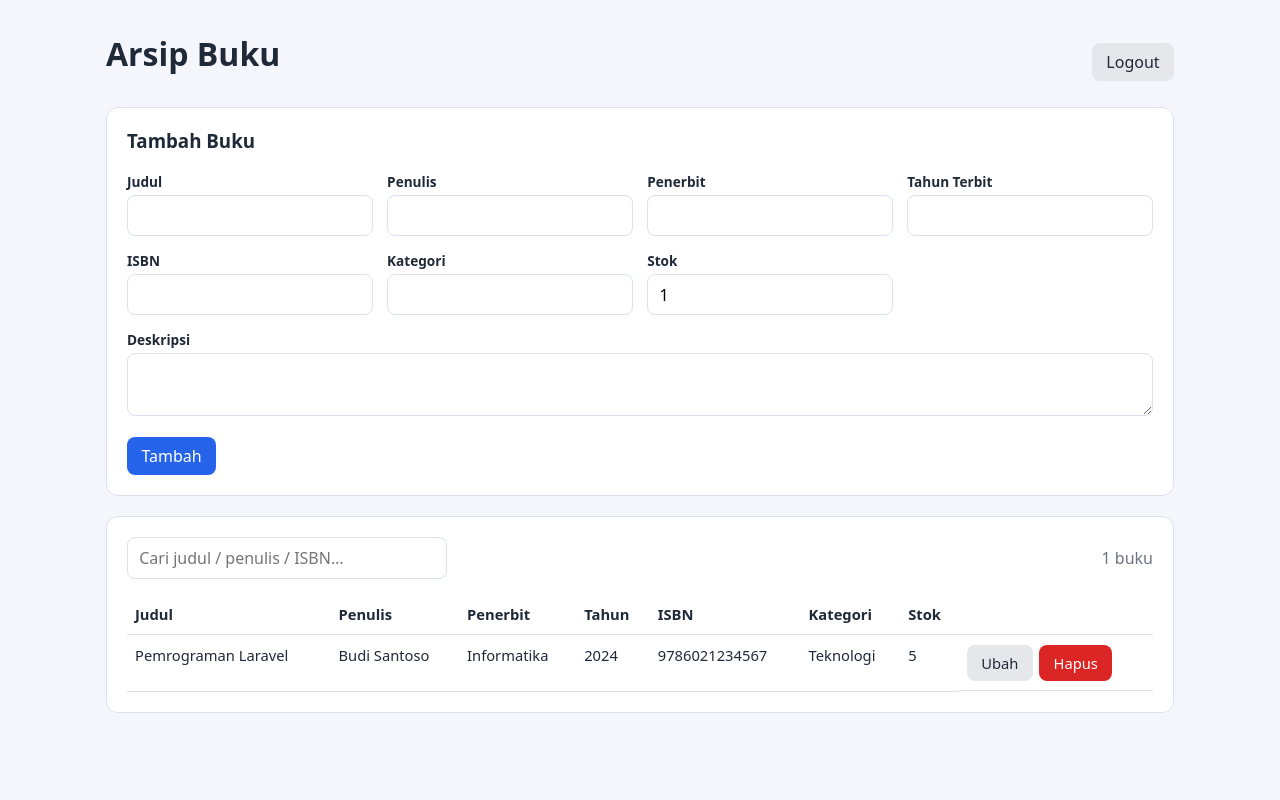
it: BukuView.vue (CRUD arsip buku) › CREATE: submit form memanggil POST /buku
Type "Buku Baru" into the field with id "judul". click: (250, 216)
box: x1=127 y1=195 x2=373 y2=236
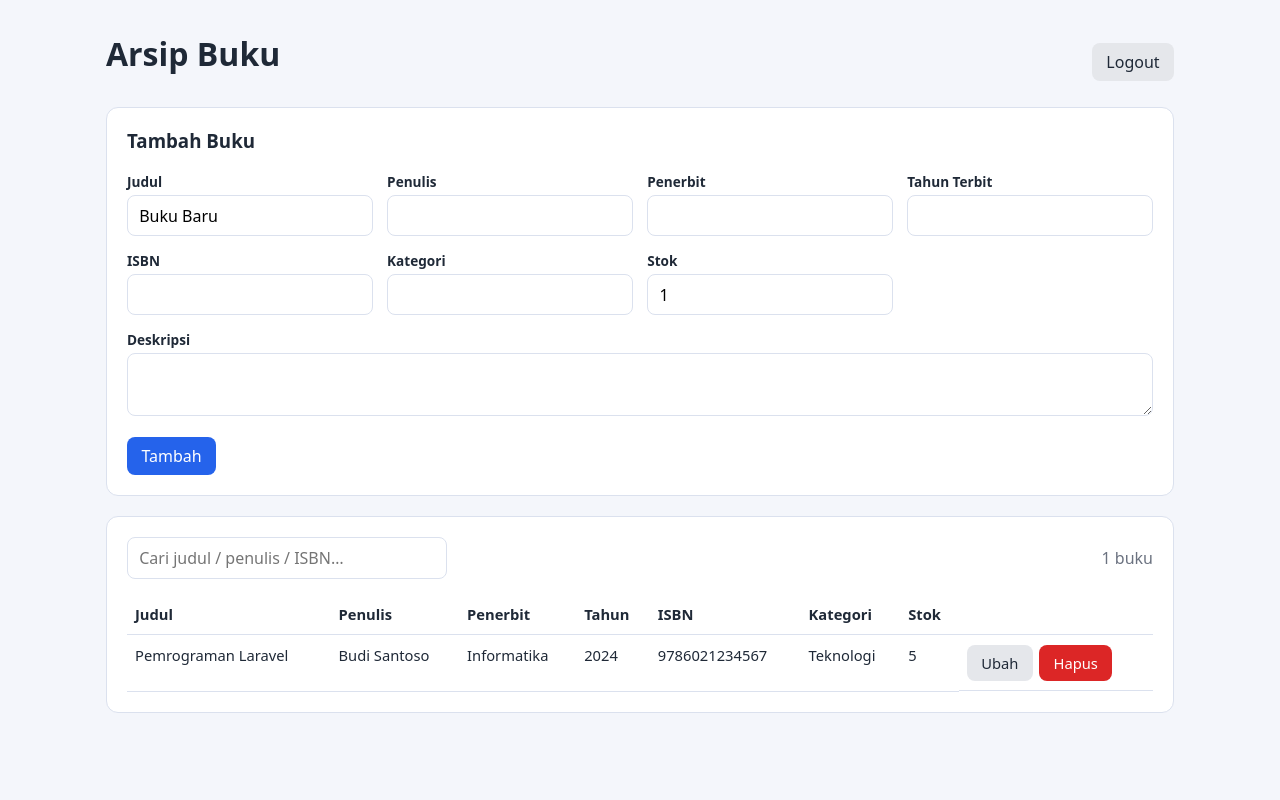
Type "Penulis A" into the field labelled "Penulis". click: (510, 216)
box: x1=387 y1=195 x2=633 y2=236
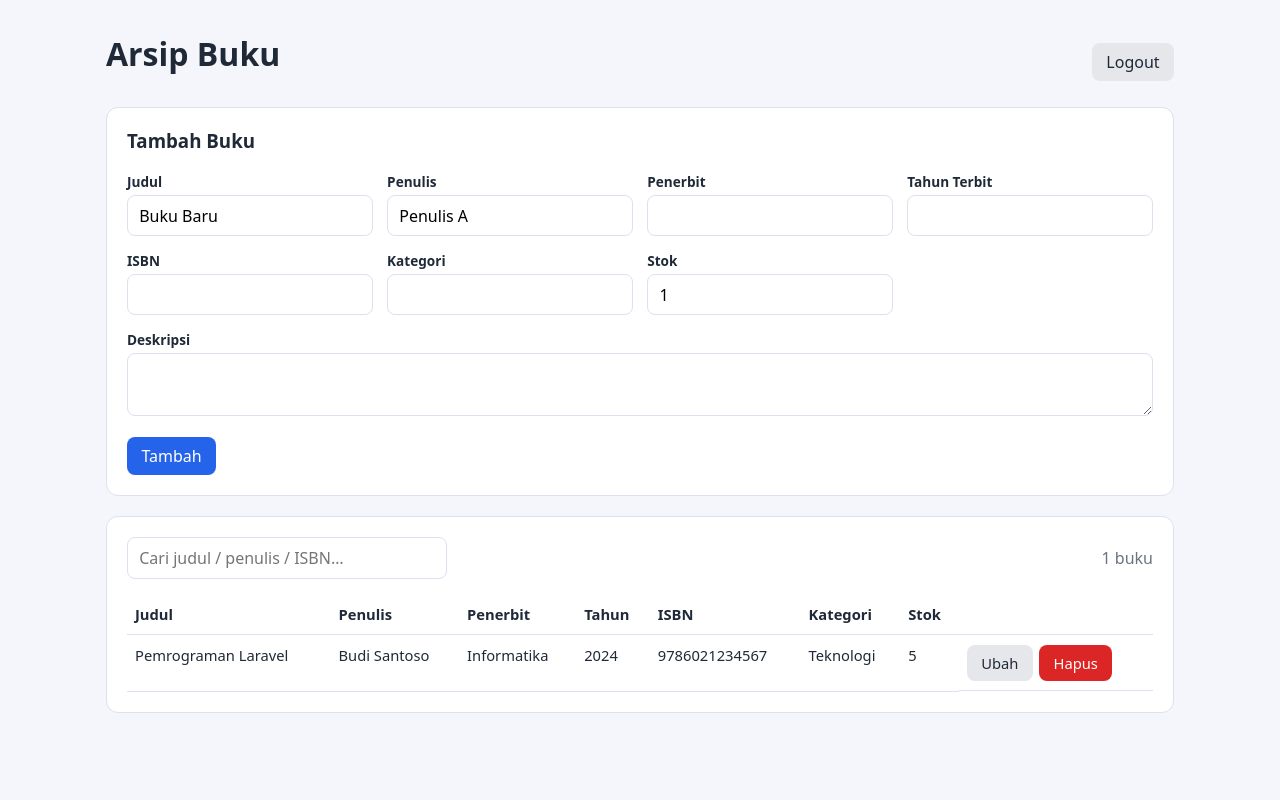
Submit the form, box x1=106 y1=107 x2=1174 y2=496
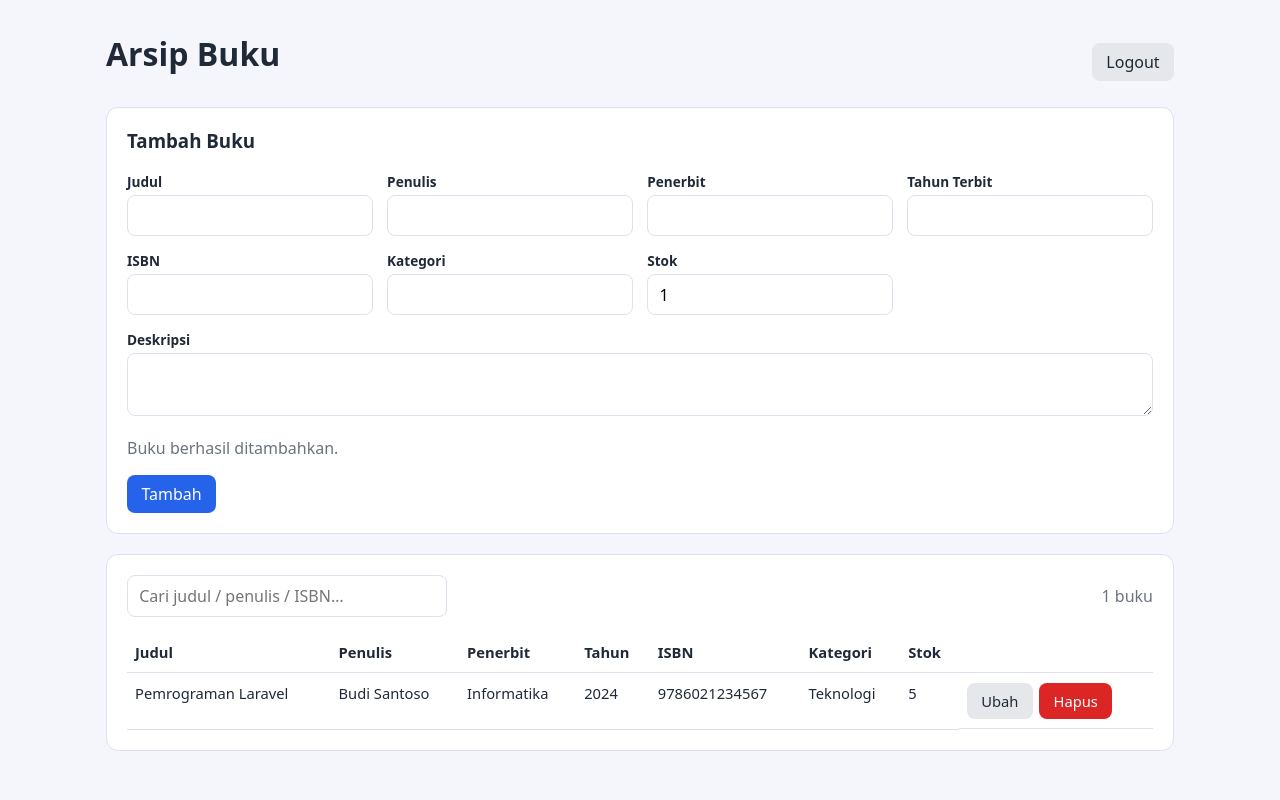
Check: the text "Buku berhasil ditambahkan." is shown, box x1=127 y1=437 x2=338 y2=459
